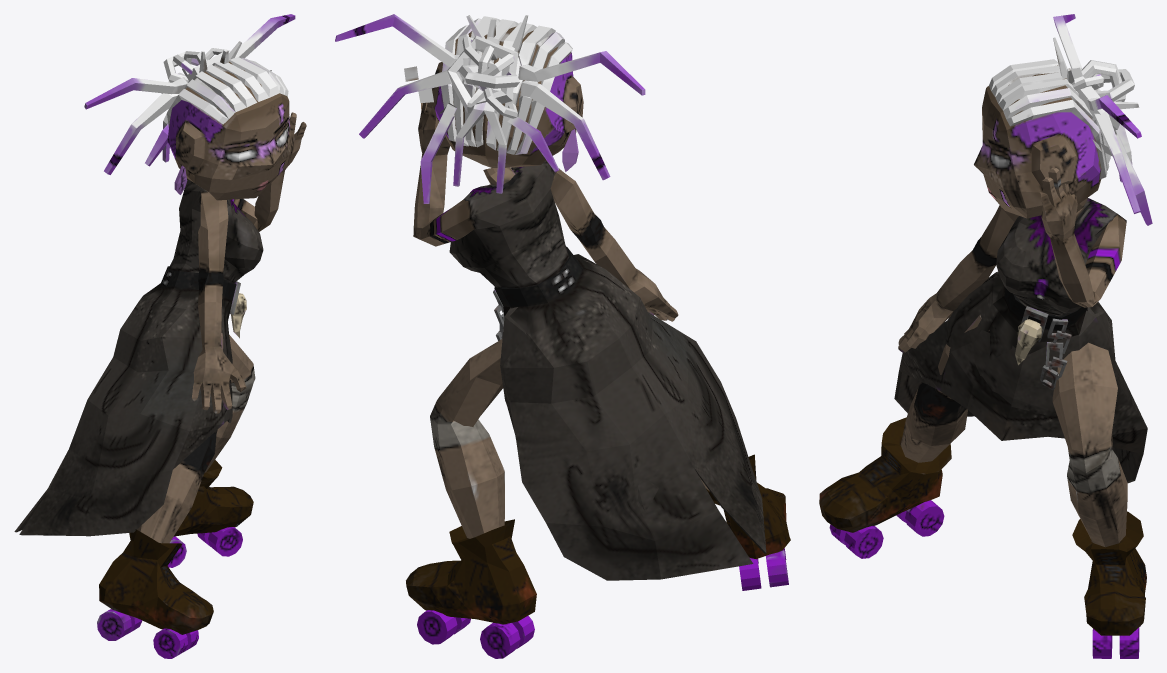
Rendered from bruja_000027.obj.
3 views of the same model, side by side, from view 1: azimuth 30°, elevation 25°; view 2: azimuth 150°, elevation 25°; view 3: azimuth 270°, elevation 25° (orthographic). The views are drawn at different scales.
Visible parts, largest first — view 1: Bruja_Plane.001; view 2: Bruja_Plane.001; view 3: Bruja_Plane.001.
Boxes of the visible parts, x1=… form: Bruja_Plane.001: x1=14, y1=14, x2=306, y2=658; Bruja_Plane.001: x1=335, y1=14, x2=790, y2=658; Bruja_Plane.001: x1=819, y1=14, x2=1152, y2=658.
Bounding box in the file's own units: 9.93 × 15.44 × 7.83.
